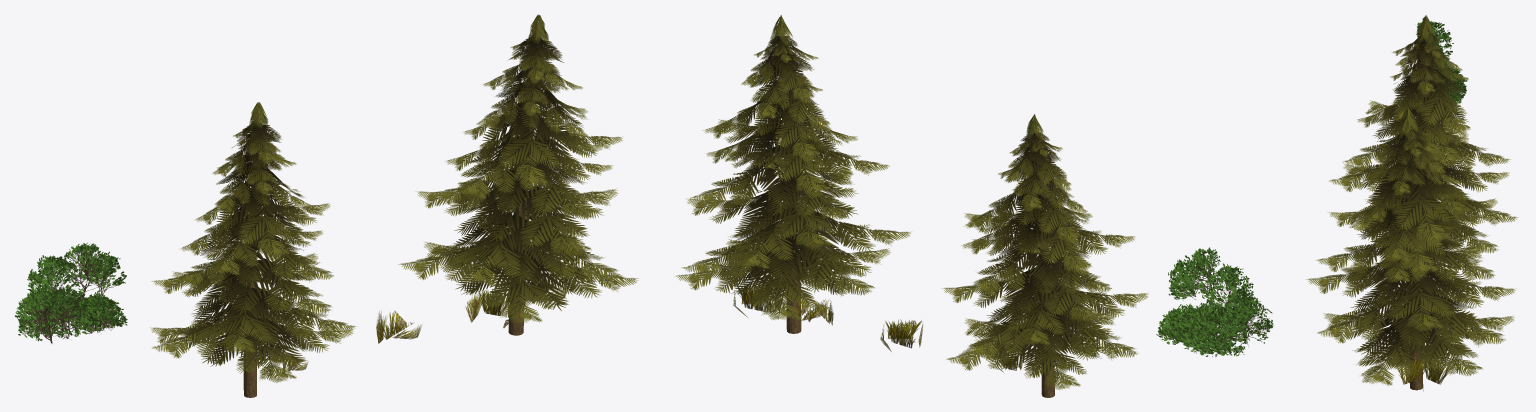
3 renders of one model, left to right at view 1: azimuth 30°, elevation 25°; view 2: azimuth 150°, elevation 25°; view 3: azimuth 270°, elevation 25°, orthographic. The views are drawn at different scales.
Visible parts, largest first — view 1: Low Poly Stylized 2D Grass.3554; view 2: Low Poly Stylized 2D Grass.3554; view 3: Low Poly Stylized 2D Grass.3554.
Boxes of the visible parts, x1,y1,x2,y2 form: Low Poly Stylized 2D Grass.3554: [15, 14, 638, 397]; Low Poly Stylized 2D Grass.3554: [675, 15, 1273, 397]; Low Poly Stylized 2D Grass.3554: [1306, 15, 1518, 391].
Size of the model in its own units: 23.14 by 11.6 by 8.
Materials: 5 (4 with a texture image).
